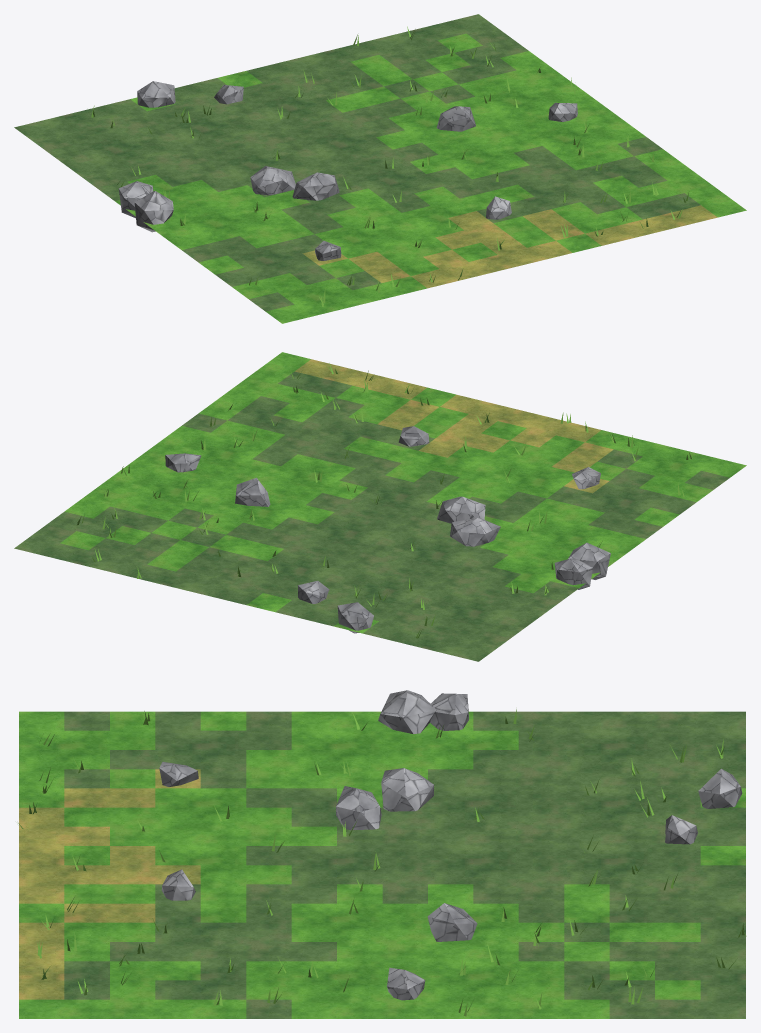
Rendered from chunk_9_3.glb.
The picture shows the model from 3 angles, top to bottom: view 1: azimuth 30°, elevation 25°; view 2: azimuth 150°, elevation 25°; view 3: azimuth 270°, elevation 25°; orthographic projection. The views are drawn at different scales.
Visible parts, largest first — view 1: chunk_9_3; view 2: chunk_9_3; view 3: chunk_9_3.
Boxes of the visible parts, left/top/right/bottom form: chunk_9_3: left=14, top=14, right=746, bottom=323; chunk_9_3: left=14, top=352, right=746, bottom=661; chunk_9_3: left=18, top=690, right=746, bottom=1018.
Bounding box in the file's own units: 16.08 × 1.26 × 16.13.
Materials: 5 (4 with a texture image).
